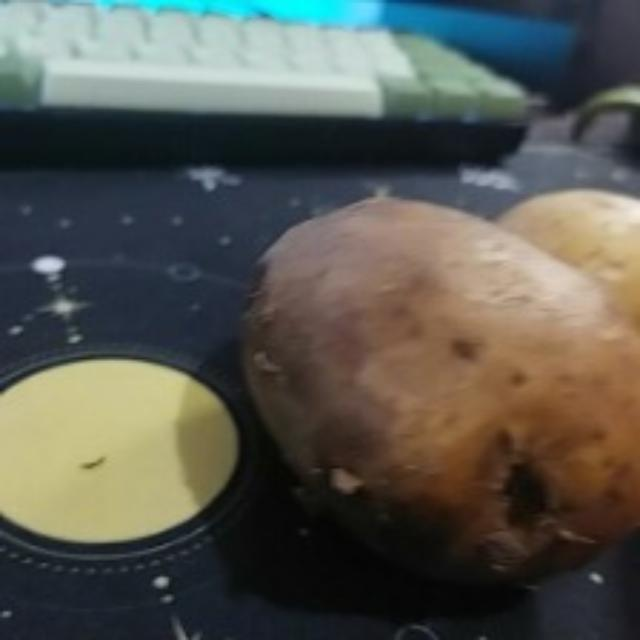Damaged potato: (242, 202, 640, 584)
Potato: (496, 180, 640, 322)
